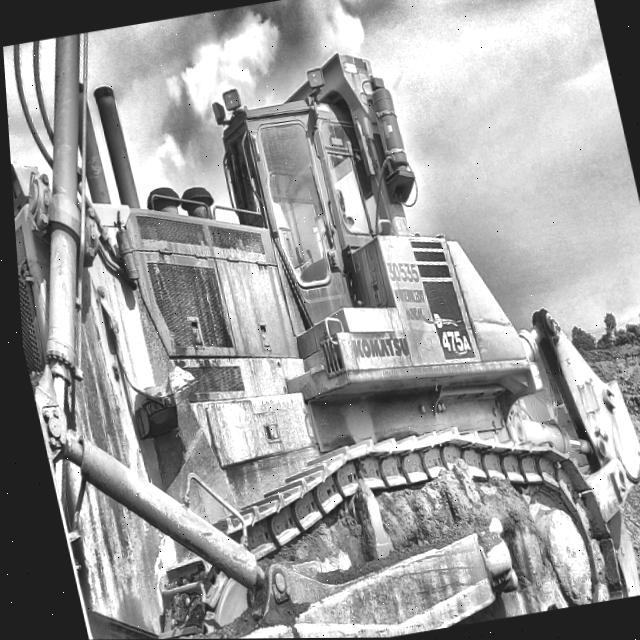buldozerpayloadergrader: (9, 33, 638, 640)
